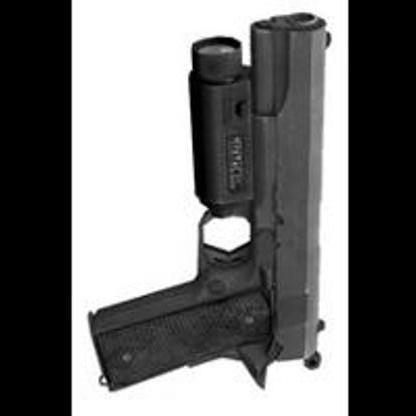weapon: (81, 2, 335, 396)
